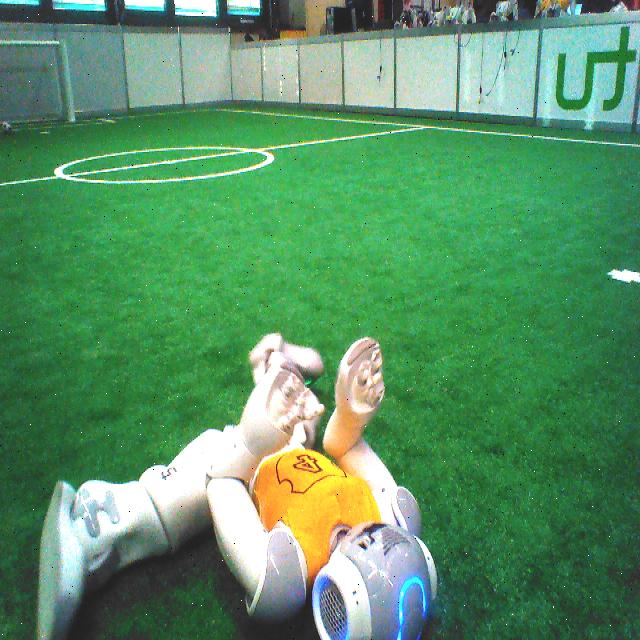ball: (0, 120, 11, 133)
goalpost: (55, 40, 78, 121)
